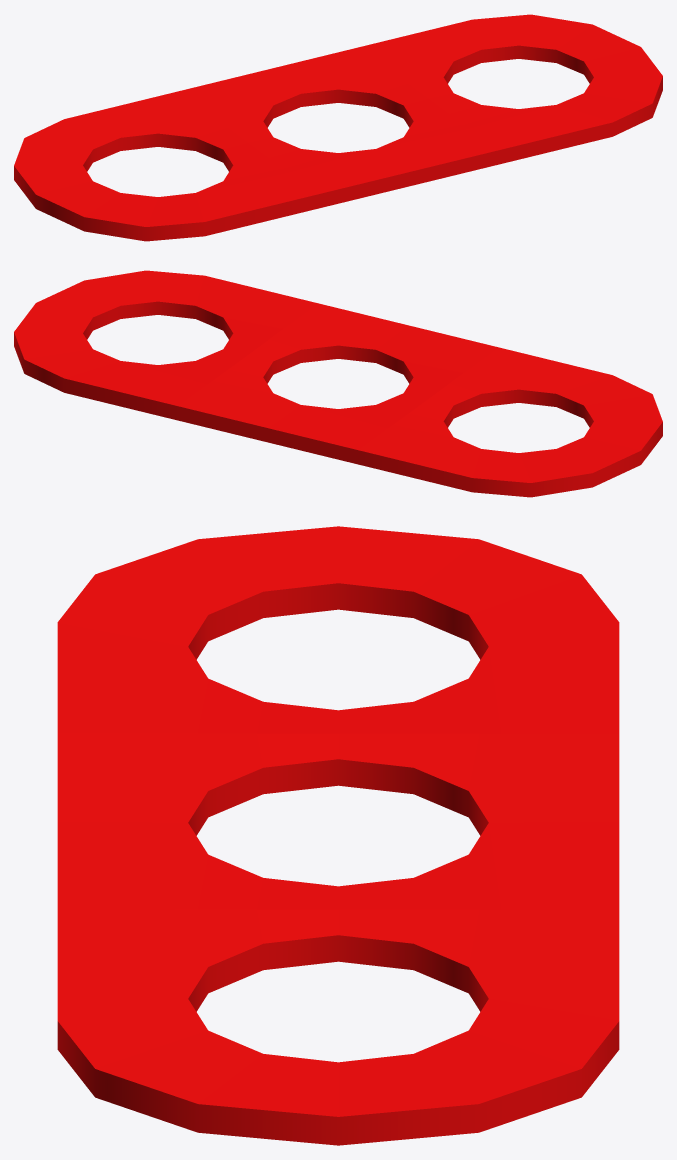
Rendered from ThreeLongRed.fbx.
The picture shows the model from 3 angles, top to bottom: view 1: azimuth 30°, elevation 25°; view 2: azimuth 150°, elevation 25°; view 3: azimuth 270°, elevation 25°; orthographic projection. The views are drawn at different scales.
Visible parts, largest first — view 1: Blue3; view 2: Blue3; view 3: Blue3.
Part boxes in pixels (x1,y1,x2,y2): Blue3: (14, 14, 662, 241); Blue3: (14, 270, 662, 497); Blue3: (57, 526, 619, 1145).
Bounding box in the file's own units: 8.58 × 0.1942 × 3.45.
